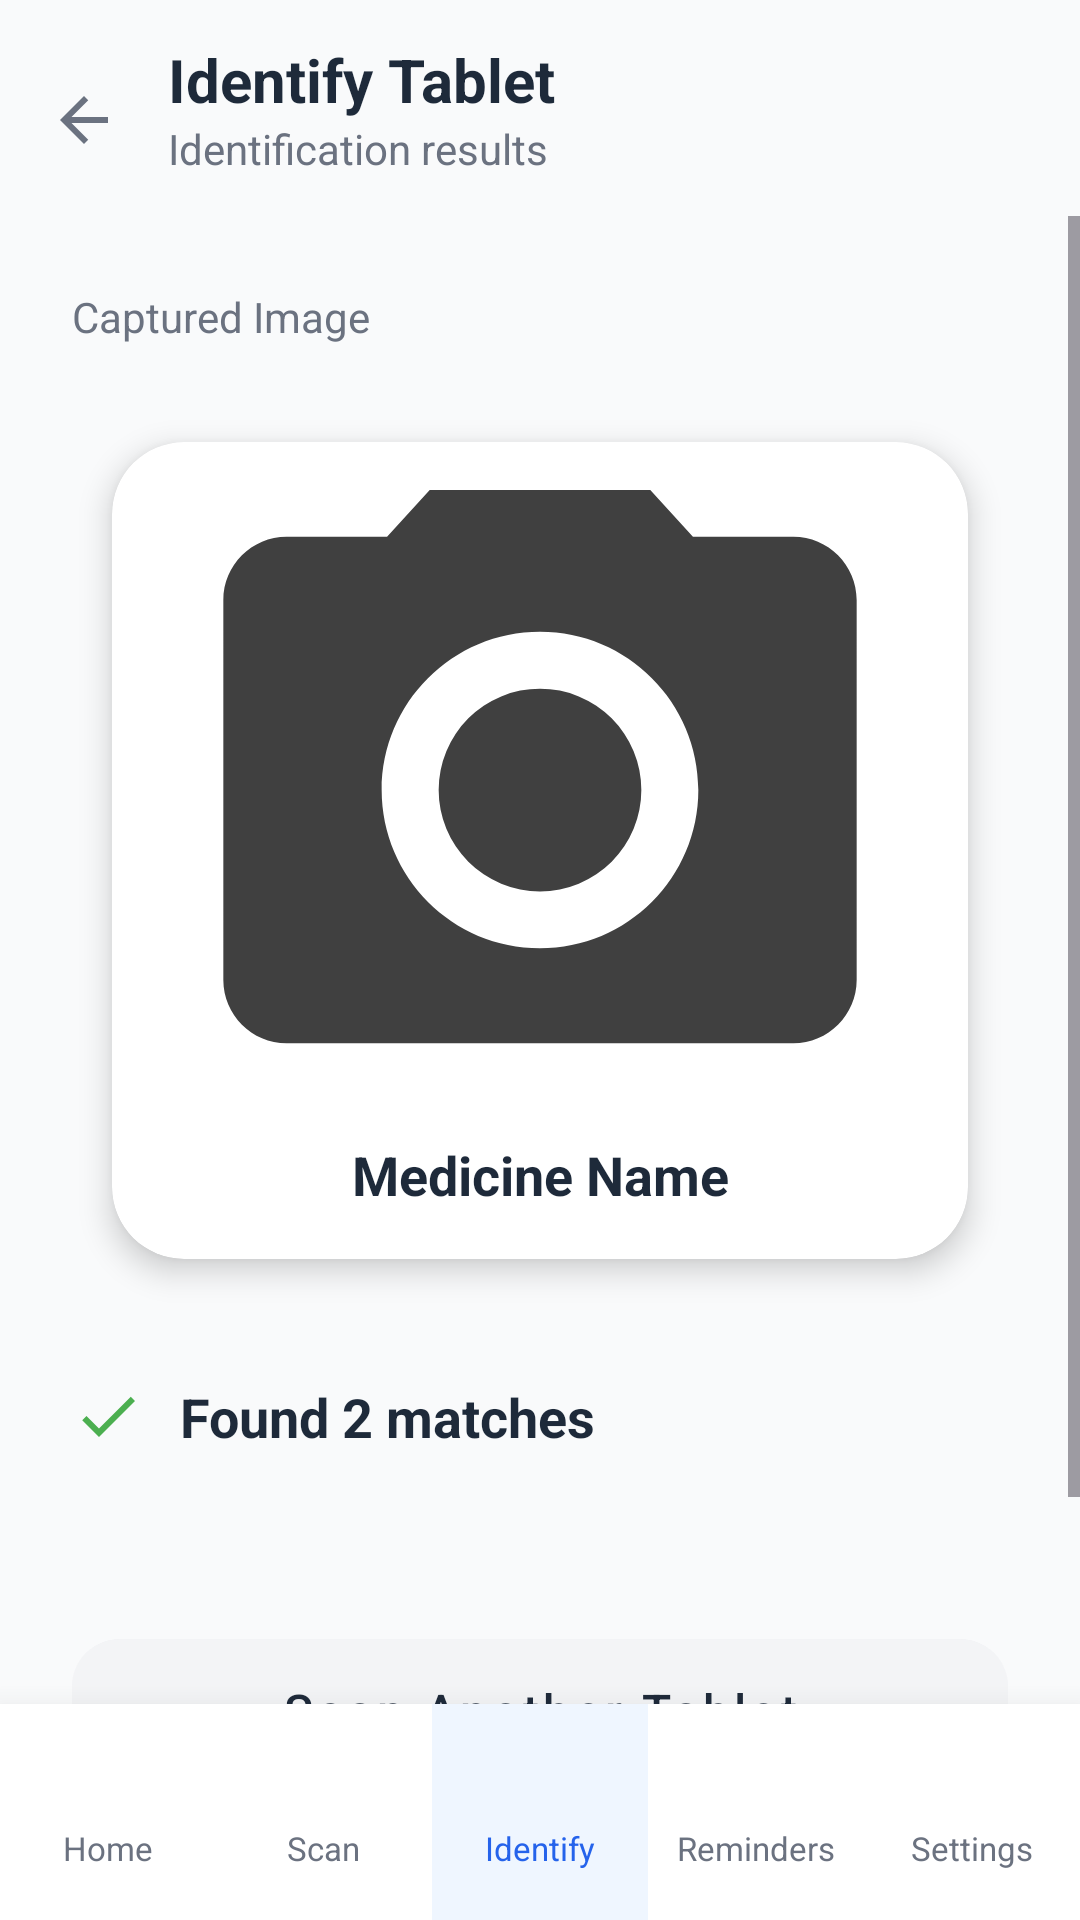

Screen size 1080 x 1920. Icon name, then its box in pixels as [left=x1, top=y1, right=x2, bottom=y2]:
check: [left=82, top=1397, right=135, bottom=1437]
